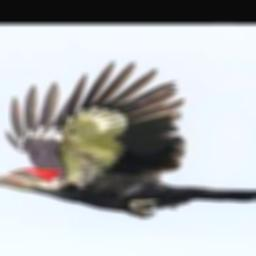Woodpecker: (0, 61, 256, 218)
